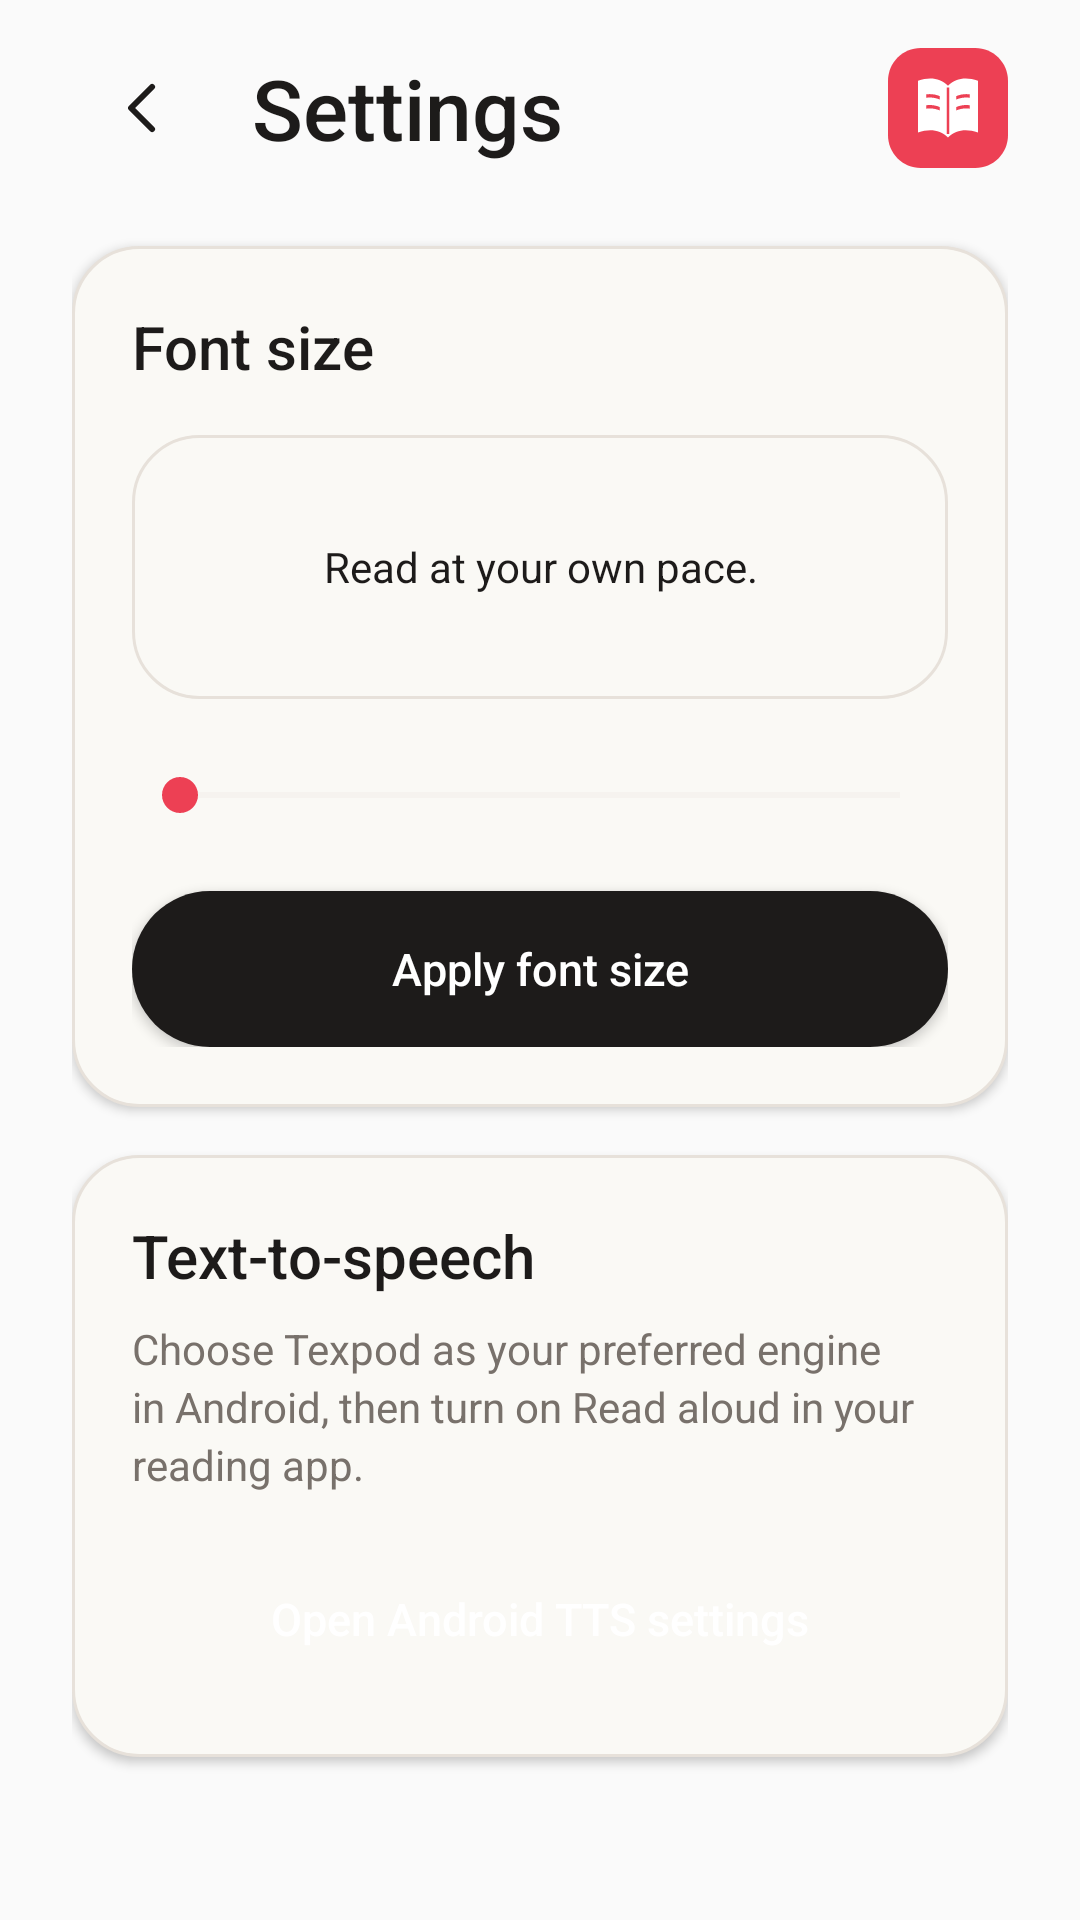

Where to tap for icons on this 1080×1920 app screen, as point (x, y):
Back: point (142, 108)
